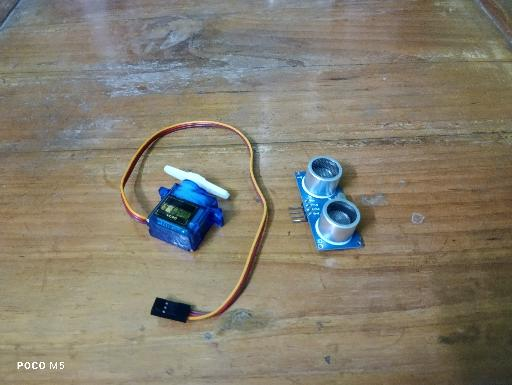Motor: (145, 164, 230, 253)
sensor: (288, 156, 364, 252)
